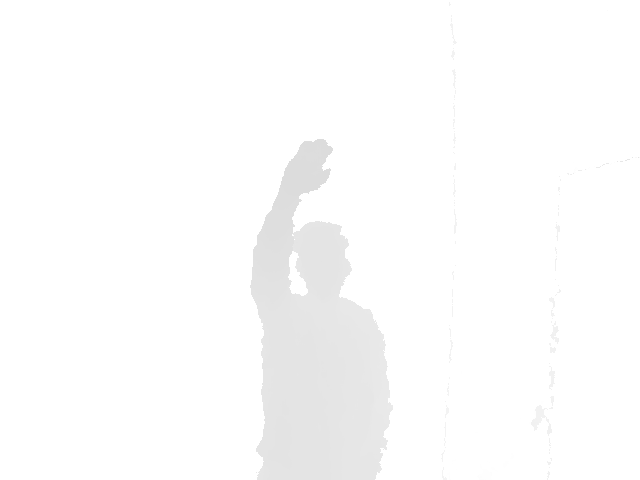hand: (277, 137, 335, 196)
head: (291, 221, 353, 296)
person: (249, 137, 393, 479)
